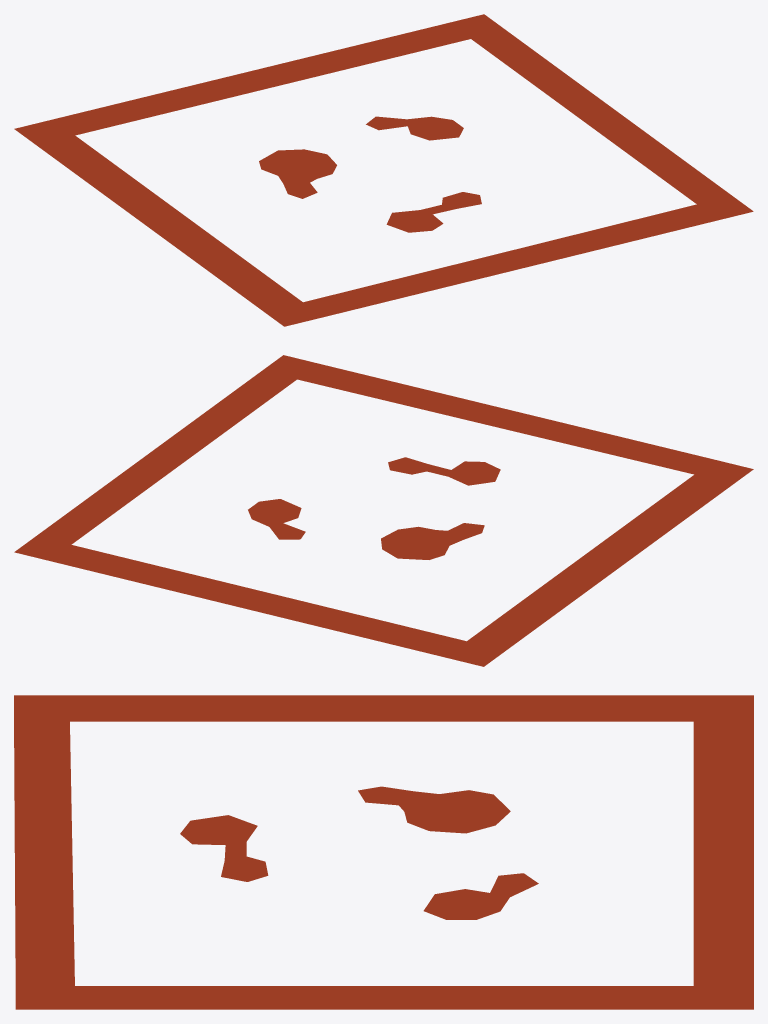
Rendered from forest-obstacles.glb.
3 views of the same model, one above another, from view 1: azimuth 30°, elevation 25°; view 2: azimuth 150°, elevation 25°; view 3: azimuth 270°, elevation 25° (orthographic). The views are drawn at different scales.
Visible parts, largest first — view 1: Obstacles; view 2: Obstacles; view 3: Obstacles.
Boxes of the visible parts, x1,y1,x2,y2 form: Obstacles: (14,14,753,326); Obstacles: (14,355,753,666); Obstacles: (14,695,753,1009).
Bounding box in the file's own units: 10.33 × 0.0153 × 10.29.
Materials: 1 (1 with a texture image).
